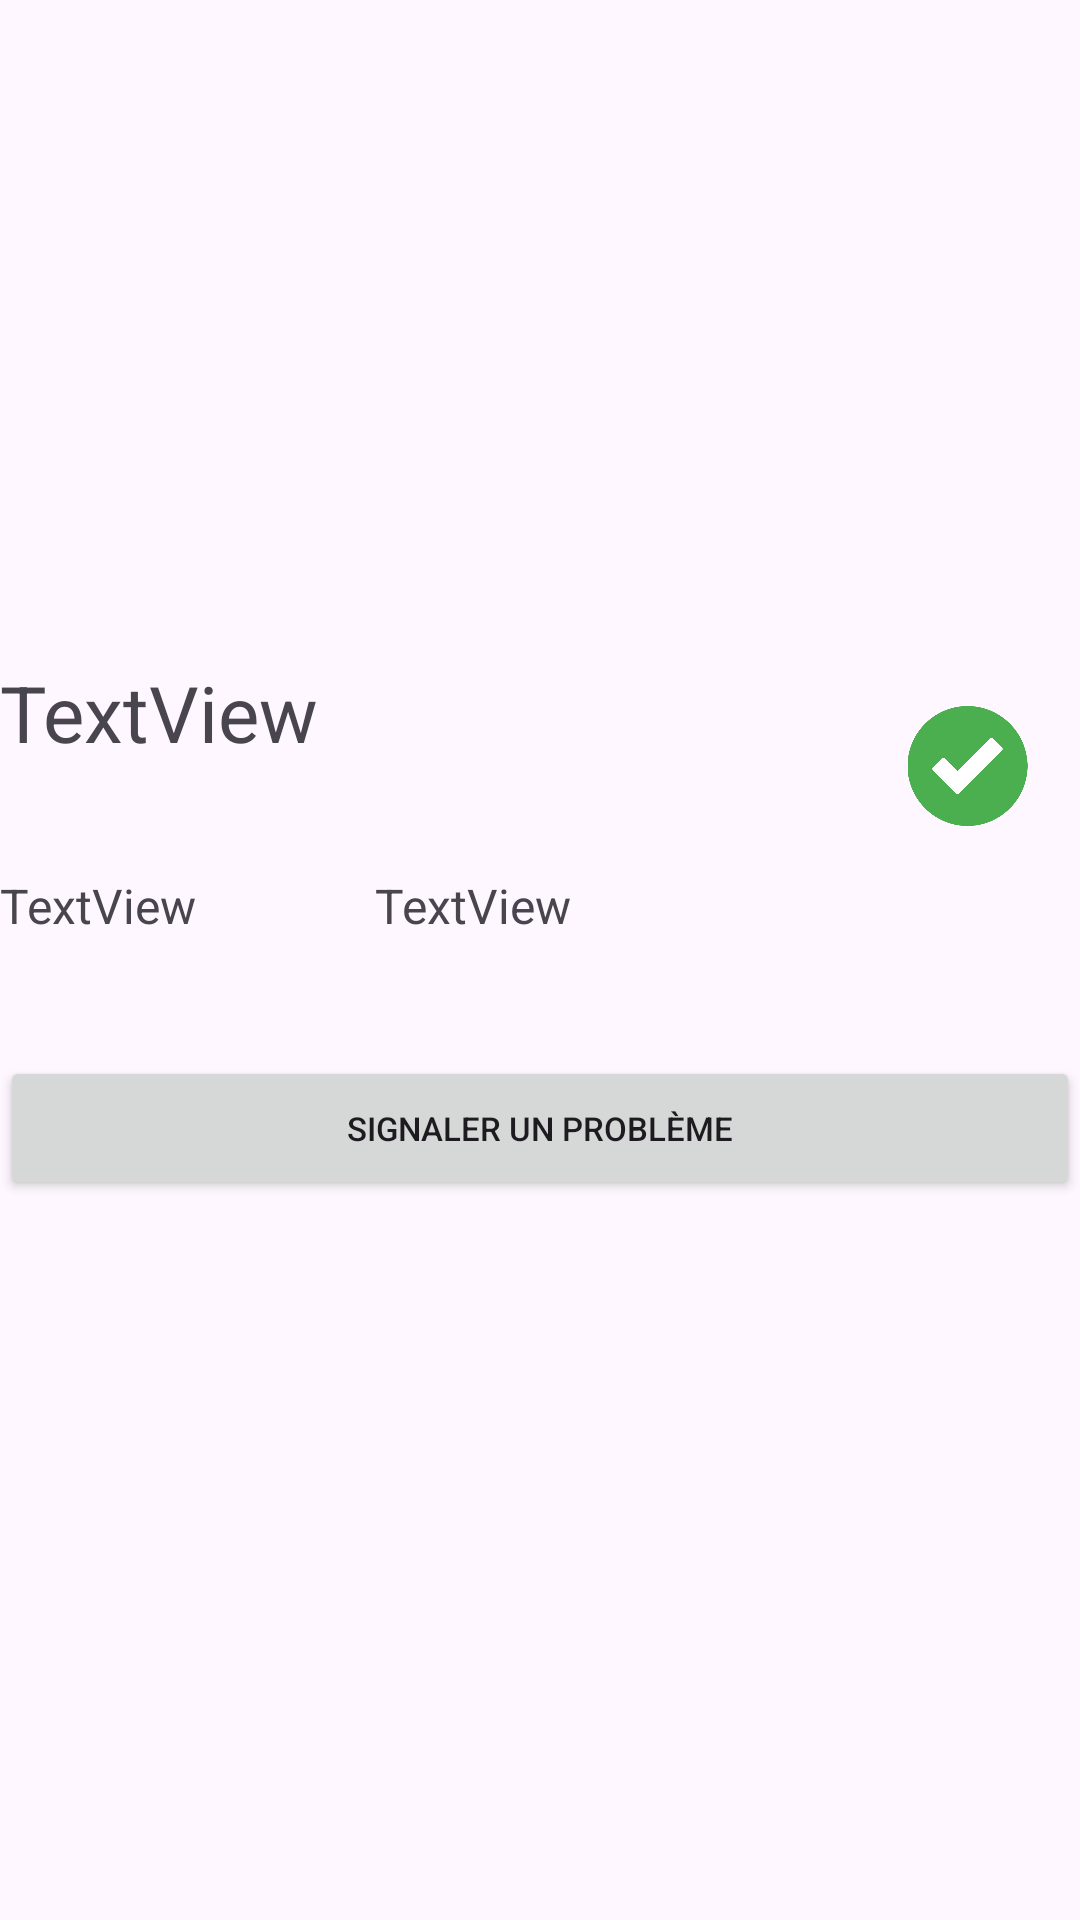

Locate icon controls on the screen. Image size 1080 x 1920, boxes as (x1, y1, x2, y2).
accept: (908, 706, 1028, 826)
